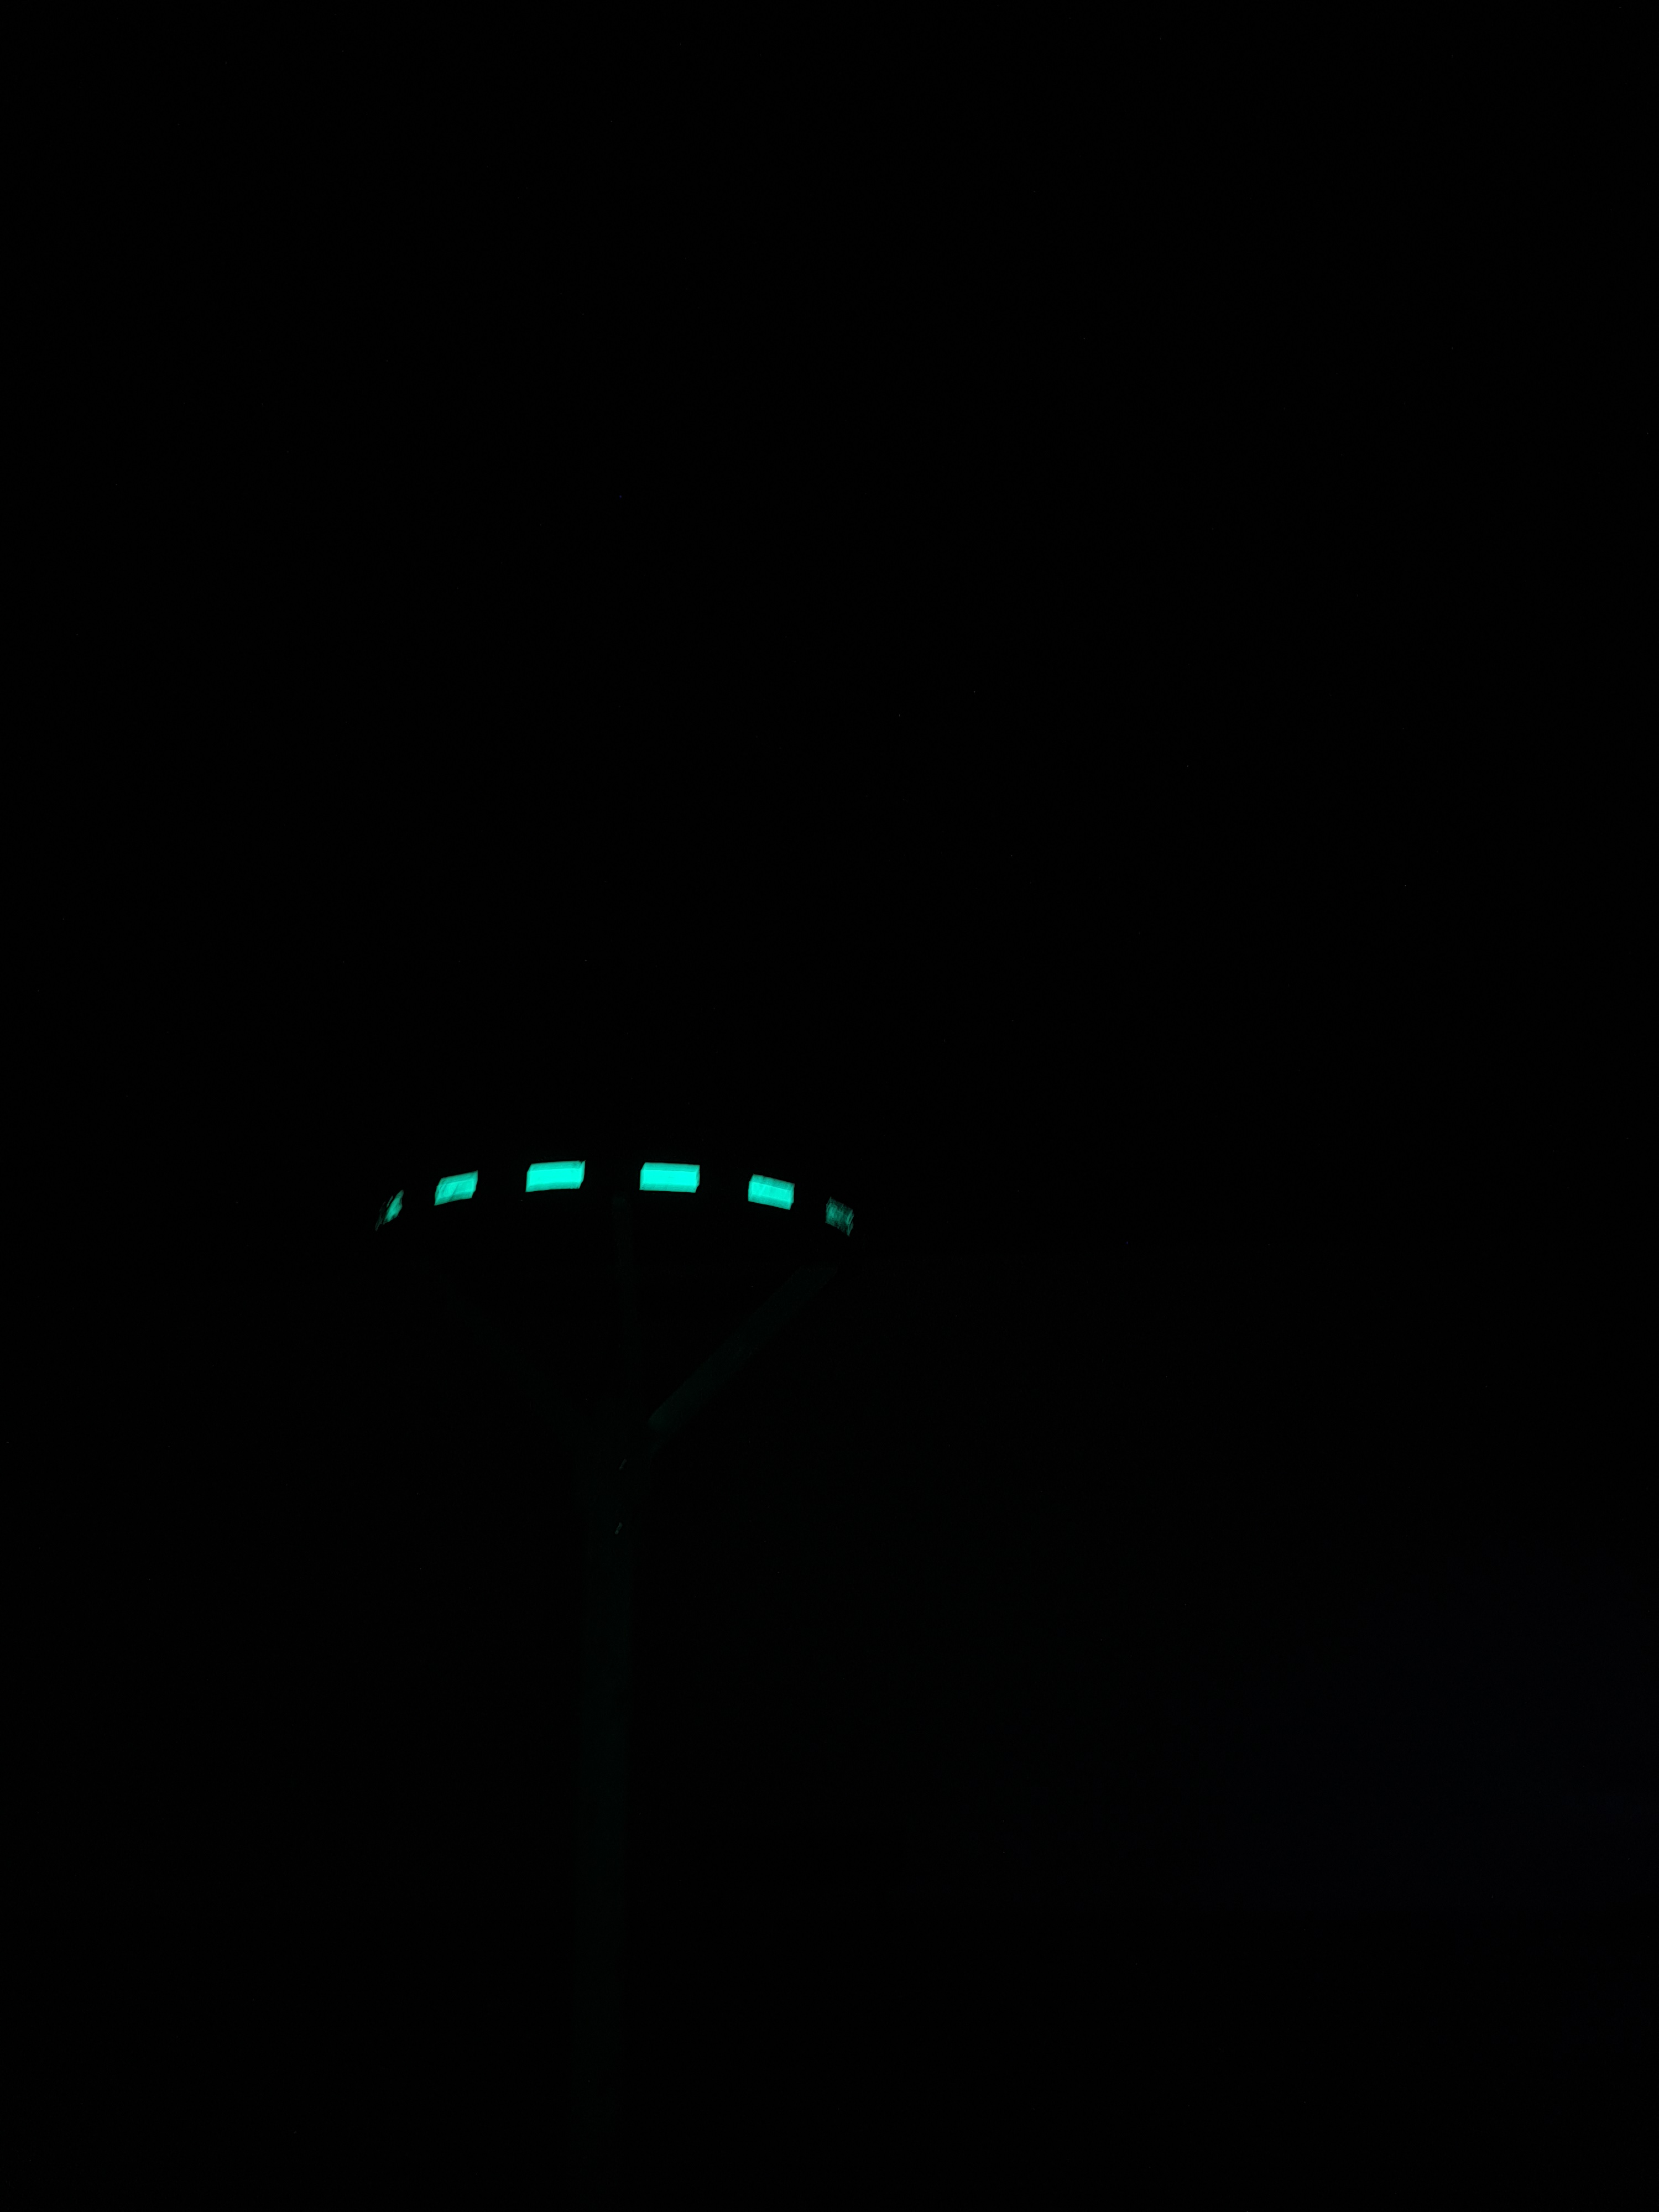hoop: (364, 1153, 859, 1254)
